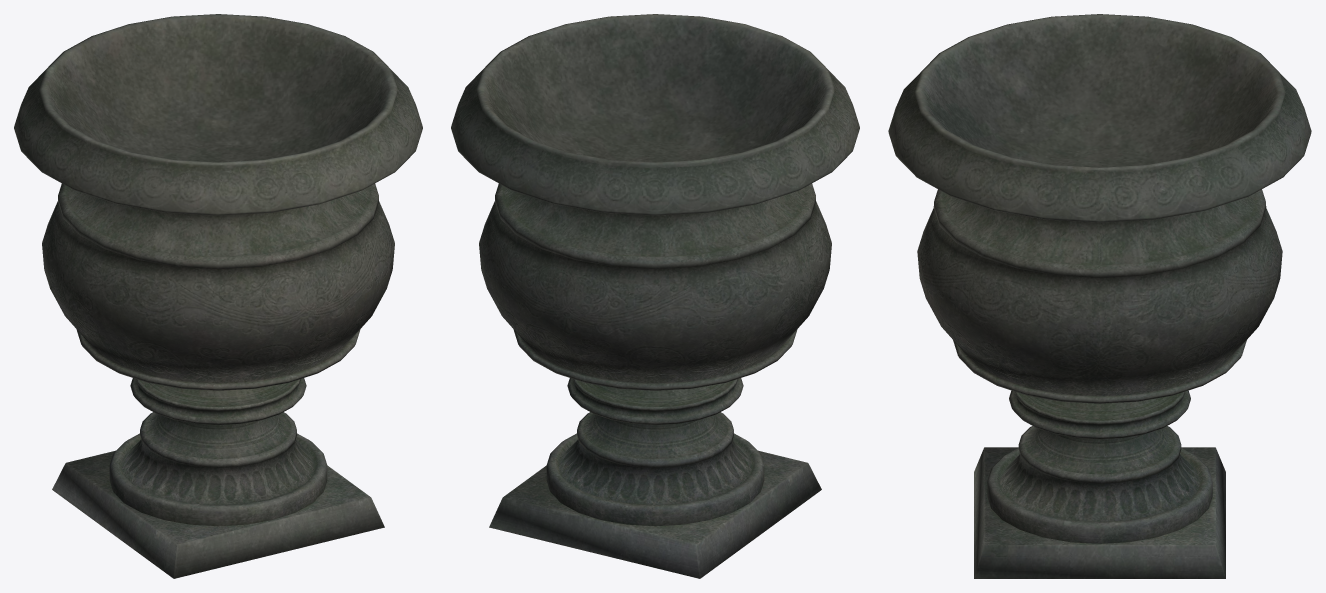
The model's file is medieval_vase.glb.
The picture shows the model from 3 angles, left to right: view 1: azimuth 30°, elevation 25°; view 2: azimuth 150°, elevation 25°; view 3: azimuth 270°, elevation 25°; orthographic projection. The views are drawn at different scales.
Parts seen in each view (by area): view 1: Jar; view 2: Jar; view 3: Jar.
Boxes of the visible parts, x1,y1,x2,y2 form: Jar: [14, 14, 422, 578]; Jar: [451, 14, 859, 578]; Jar: [888, 14, 1311, 578].
Bounding box in the file's own units: 6.71 × 7.6 × 6.71.
1 material, 1 textured.
